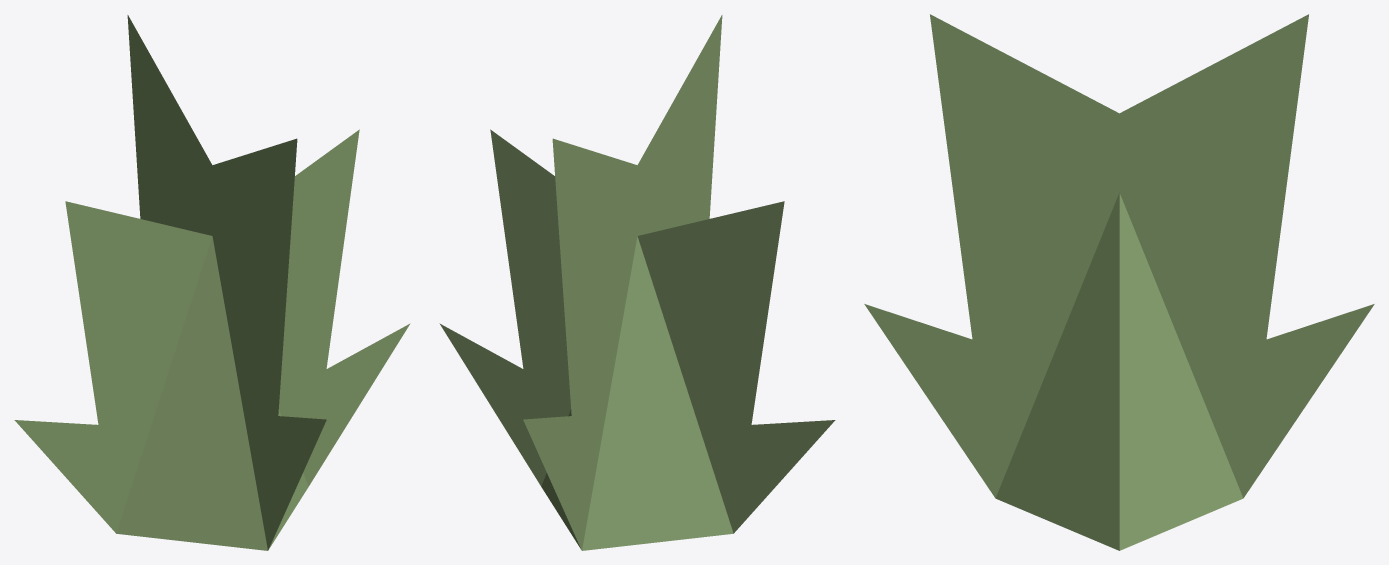
Rendered from srf_plant_flat.glb.
3 renders of one model, left to right at view 1: azimuth 30°, elevation 25°; view 2: azimuth 150°, elevation 25°; view 3: azimuth 270°, elevation 25°, orthographic. The views are drawn at different scales.
Parts seen in each view (by area): view 1: plant_flatTall; view 2: plant_flatTall; view 3: plant_flatTall.
Boxes of the visible parts, bbox=[...] form: plant_flatTall: bbox=[14, 15, 410, 550]; plant_flatTall: bbox=[439, 15, 835, 550]; plant_flatTall: bbox=[864, 14, 1374, 550].
Bounding box in the file's own units: 0.2717 × 0.2843 × 0.2717.
